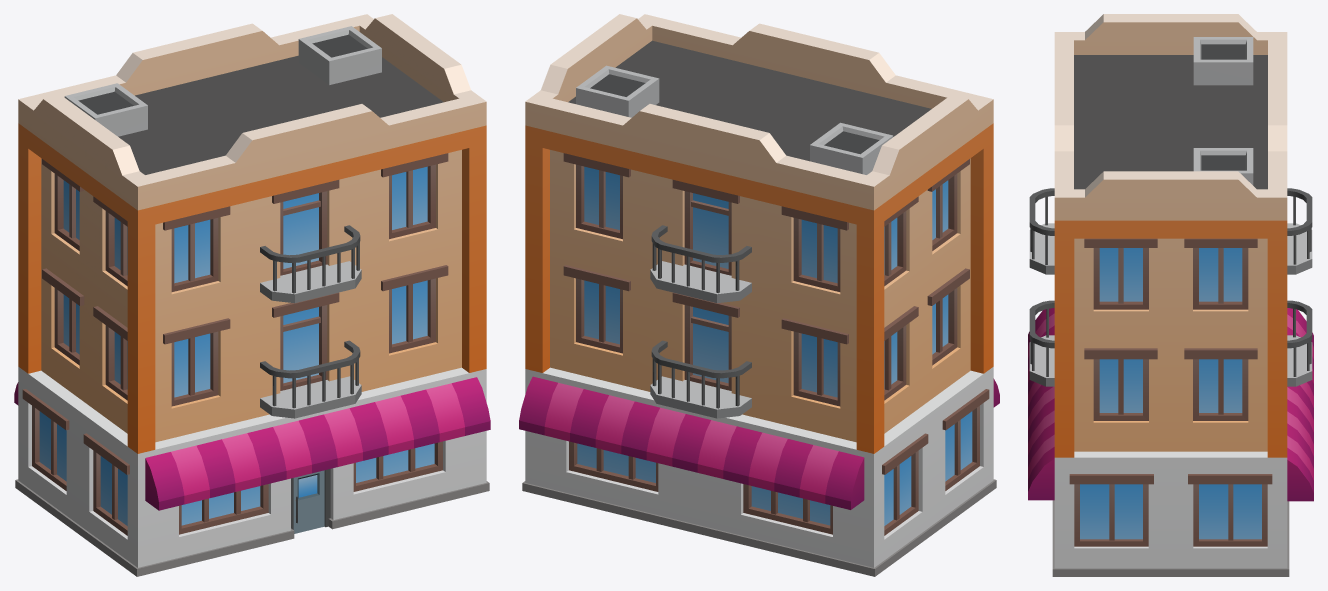
Rendered from residental_building_007.glb.
The picture shows the model from 3 angles, left to right: view 1: azimuth 30°, elevation 25°; view 2: azimuth 150°, elevation 25°; view 3: azimuth 270°, elevation 25°; orthographic projection. The views are drawn at different scales.
Visible parts, largest first — view 1: residental_building_007; view 2: residental_building_007; view 3: residental_building_007.
Boxes of the visible parts, x1=… form: residental_building_007: x1=14, y1=14, x2=490, y2=576; residental_building_007: x1=519, y1=14, x2=999, y2=576; residental_building_007: x1=1028, y1=14, x2=1313, y2=576.
Size of the model in its own units: 13.43 by 14.71 by 9.61.
1 material, 1 textured.
